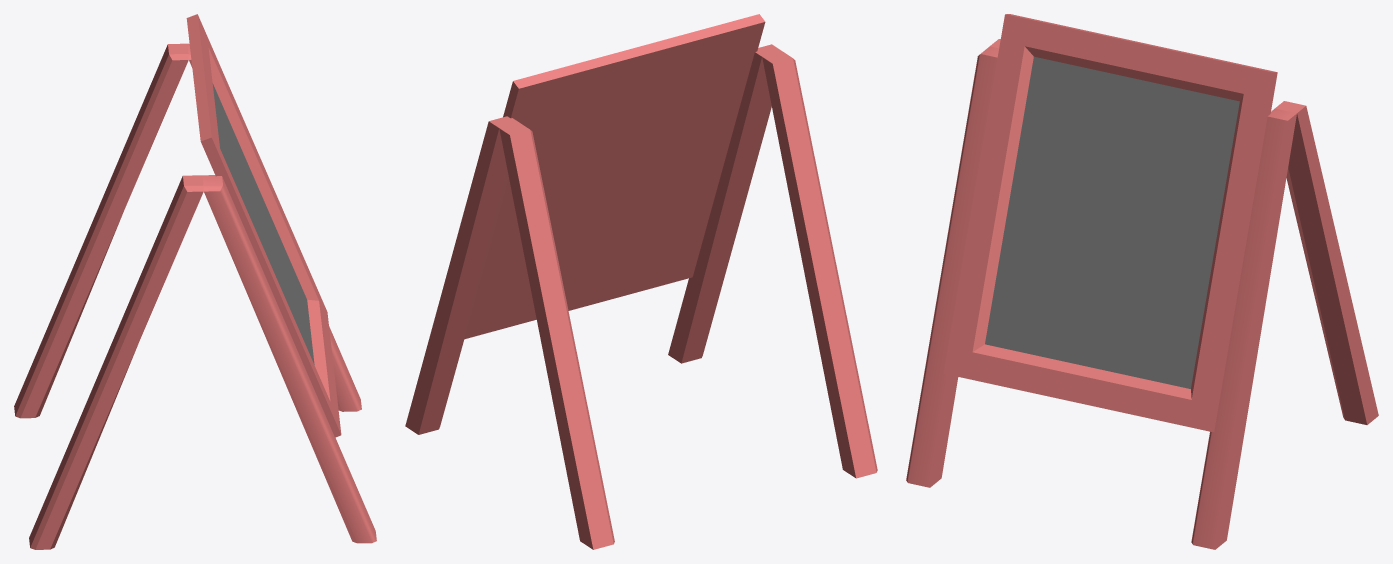
File: SM_Pizza_Banner2.fbx
3 renders of one model, left to right at view 1: azimuth 30°, elevation 25°; view 2: azimuth 150°, elevation 25°; view 3: azimuth 270°, elevation 25°, orthographic. The views are drawn at different scales.
Visible parts, largest first — view 1: SM_Pizza_Banner2; view 2: SM_Pizza_Banner2; view 3: SM_Pizza_Banner2.
Boxes of the visible parts, x1,y1,x2,y2 form: SM_Pizza_Banner2: [14, 14, 376, 549]; SM_Pizza_Banner2: [405, 14, 877, 549]; SM_Pizza_Banner2: [906, 14, 1378, 549].
Size of the model in its own units: 109 by 104 by 109.
